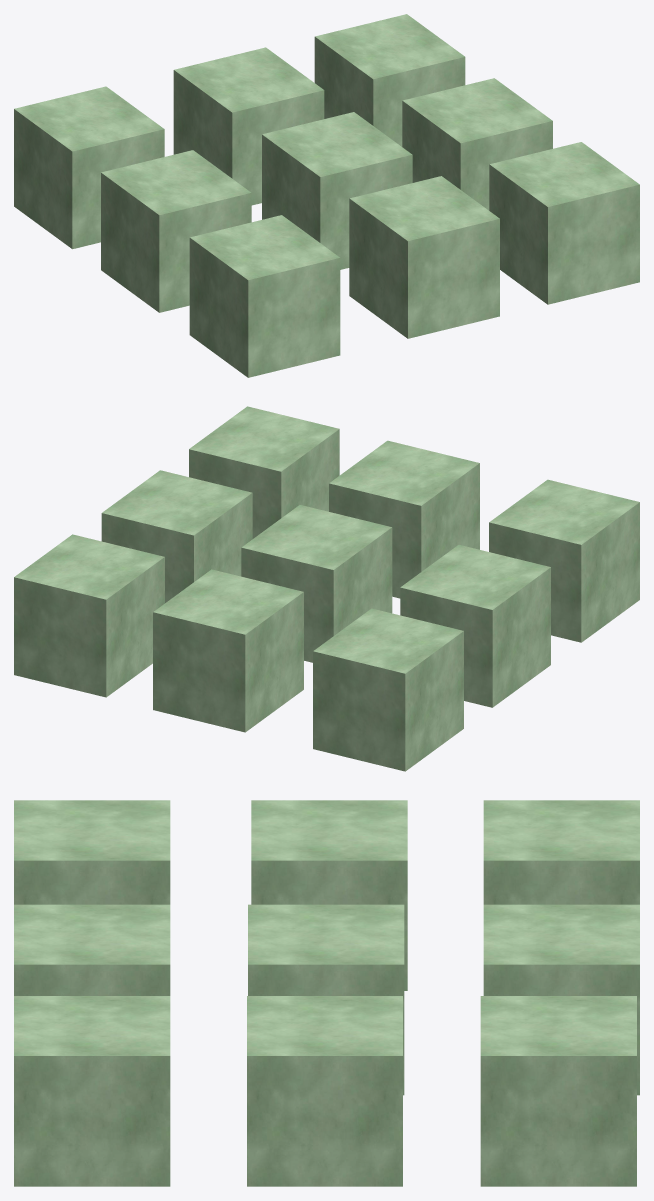
File: 一个组件一种材质复用9次（9drawcall）.fbx
The picture shows the model from 3 angles, top to bottom: view 1: azimuth 30°, elevation 25°; view 2: azimuth 150°, elevation 25°; view 3: azimuth 270°, elevation 25°; orthographic projection. The views are drawn at different scales.
Parts seen in each view (by area): view 1: greenbox1, greenbox6, greenbox7, greenbox2, greenbox3, greenbox4, greenbox5, greenbox9, greenbox8; view 2: greenbox3, greenbox4, greenbox9, greenbox1, greenbox2, greenbox5, greenbox6, greenbox8, greenbox7; view 3: greenbox7, greenbox9, greenbox8, greenbox2, greenbox1, greenbox3, greenbox4, greenbox5, greenbox6.
Boxes of the visible parts, <box> form: greenbox1: <box>189,215,340,377</box>; greenbox6: <box>349,176,499,338</box>; greenbox7: <box>489,142,639,304</box>; greenbox2: <box>101,150,251,312</box>; greenbox3: <box>14,86,164,249</box>; greenbox4: <box>173,47,324,205</box>; greenbox5: <box>262,112,412,269</box>; greenbox9: <box>314,14,465,146</box>; greenbox8: <box>402,78,552,210</box>; greenbox3: <box>313,608,463,771</box>; greenbox4: <box>153,569,303,732</box>; greenbox9: <box>14,534,164,697</box>; greenbox1: <box>489,479,639,642</box>; greenbox2: <box>400,545,550,707</box>; greenbox5: <box>241,505,392,662</box>; greenbox6: <box>329,440,479,598</box>; greenbox8: <box>101,470,252,602</box>; greenbox7: <box>189,406,339,538</box>; greenbox7: <box>14,996,170,1186</box>; greenbox9: <box>480,996,636,1186</box>; greenbox8: <box>247,996,402,1186</box>; greenbox2: <box>251,800,407,990</box>; greenbox1: <box>14,800,170,904</box>; greenbox3: <box>483,800,639,904</box>; greenbox4: <box>483,904,639,1095</box>; greenbox5: <box>248,904,404,1095</box>; greenbox6: <box>14,904,170,995</box>.
Size of the model in its own units: 4358 by 1038 by 4511.
